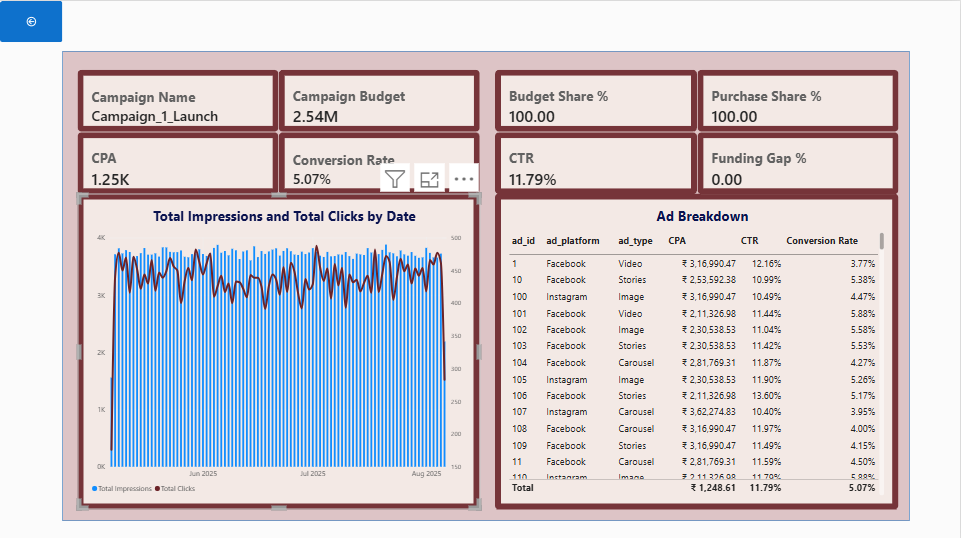

What the dashboard file says about the page in this screenshot:
{"tool":"powerbi","page":{"name":"Campaign Details Drill-Through","canvas":[1920,1080],"ordinal":4},"visuals":[{"type":"shape","box":[126,100,1694,940],"z":0},{"type":"actionButton","box":[0,0,125,82.5],"z":1000},{"type":"cardVisual","fields":{"Data":["Measures Table.Campaign Budget"]},"box":[558,138,402,124],"z":2000},{"type":"cardVisual","fields":{"Data":["Measures Table.CPA"]},"box":[156,262,402,124],"z":3000},{"type":"cardVisual","fields":{"Data":["Measures Table.CTR"]},"box":[990,262,404,124],"z":4000},{"type":"cardVisual","fields":{"Data":["Measures Table.Conversion Rate"]},"box":[558,262,402,124],"z":5000},{"type":"lineStackedColumnComboChart","fields":{"Category":["DateTable.Date"],"Y":["Measures Table.Total Impressions"],"Y2":["Measures Table.Total Clicks"]},"box":[156,386,804,632],"z":6000},{"type":"tableEx","title":"Ad Breakdown","fields":{"Values":["Ads.ad_id","Ads.ad_platform","Ads.ad_type","Measures Table.CPA","Measures Table.CTR","Measures Table.Conversion Rate"]},"box":[990,386,806,632],"z":7000},{"type":"cardVisual","fields":{"Data":["Min(Campaigns.name)"]},"box":[156,138,402,124],"z":8000},{"type":"actionButton","box":[0,0,100,40],"z":9000},{"type":"cardVisual","fields":{"Data":["Measures Table.Budget Share %"]},"box":[990,138,404,124],"z":10000},{"type":"cardVisual","fields":{"Data":["Measures Table.Funding Gap %"]},"box":[1394,262,402,124],"z":11000},{"type":"cardVisual","fields":{"Data":["Measures Table.Purchase Share %"]},"box":[1394,138,402,124],"z":12000}]}

Visuals, with their boxes on the page's 1920x1080 design canvas (x1, y1, x2, y2). These are canvas units, not pixel positions in the 961x538 screenshot, which may show the page scaled, cropped or inside an application window:
shape: bbox=(126, 100, 1820, 1040)
actionButton: bbox=(0, 0, 125, 82)
cardVisual - Measures Table.Campaign Budget: bbox=(558, 138, 960, 262)
cardVisual - Measures Table.CPA: bbox=(156, 262, 558, 386)
cardVisual - Measures Table.CTR: bbox=(990, 262, 1394, 386)
cardVisual - Measures Table.Conversion Rate: bbox=(558, 262, 960, 386)
lineStackedColumnComboChart - DateTable.Date x Measures Table.Total Impressions: bbox=(156, 386, 960, 1018)
"Ad Breakdown" tableEx: bbox=(990, 386, 1796, 1018)
cardVisual - Min(Campaigns.name): bbox=(156, 138, 558, 262)
actionButton: bbox=(0, 0, 100, 40)
cardVisual - Measures Table.Budget Share %: bbox=(990, 138, 1394, 262)
cardVisual - Measures Table.Funding Gap %: bbox=(1394, 262, 1796, 386)
cardVisual - Measures Table.Purchase Share %: bbox=(1394, 138, 1796, 262)
